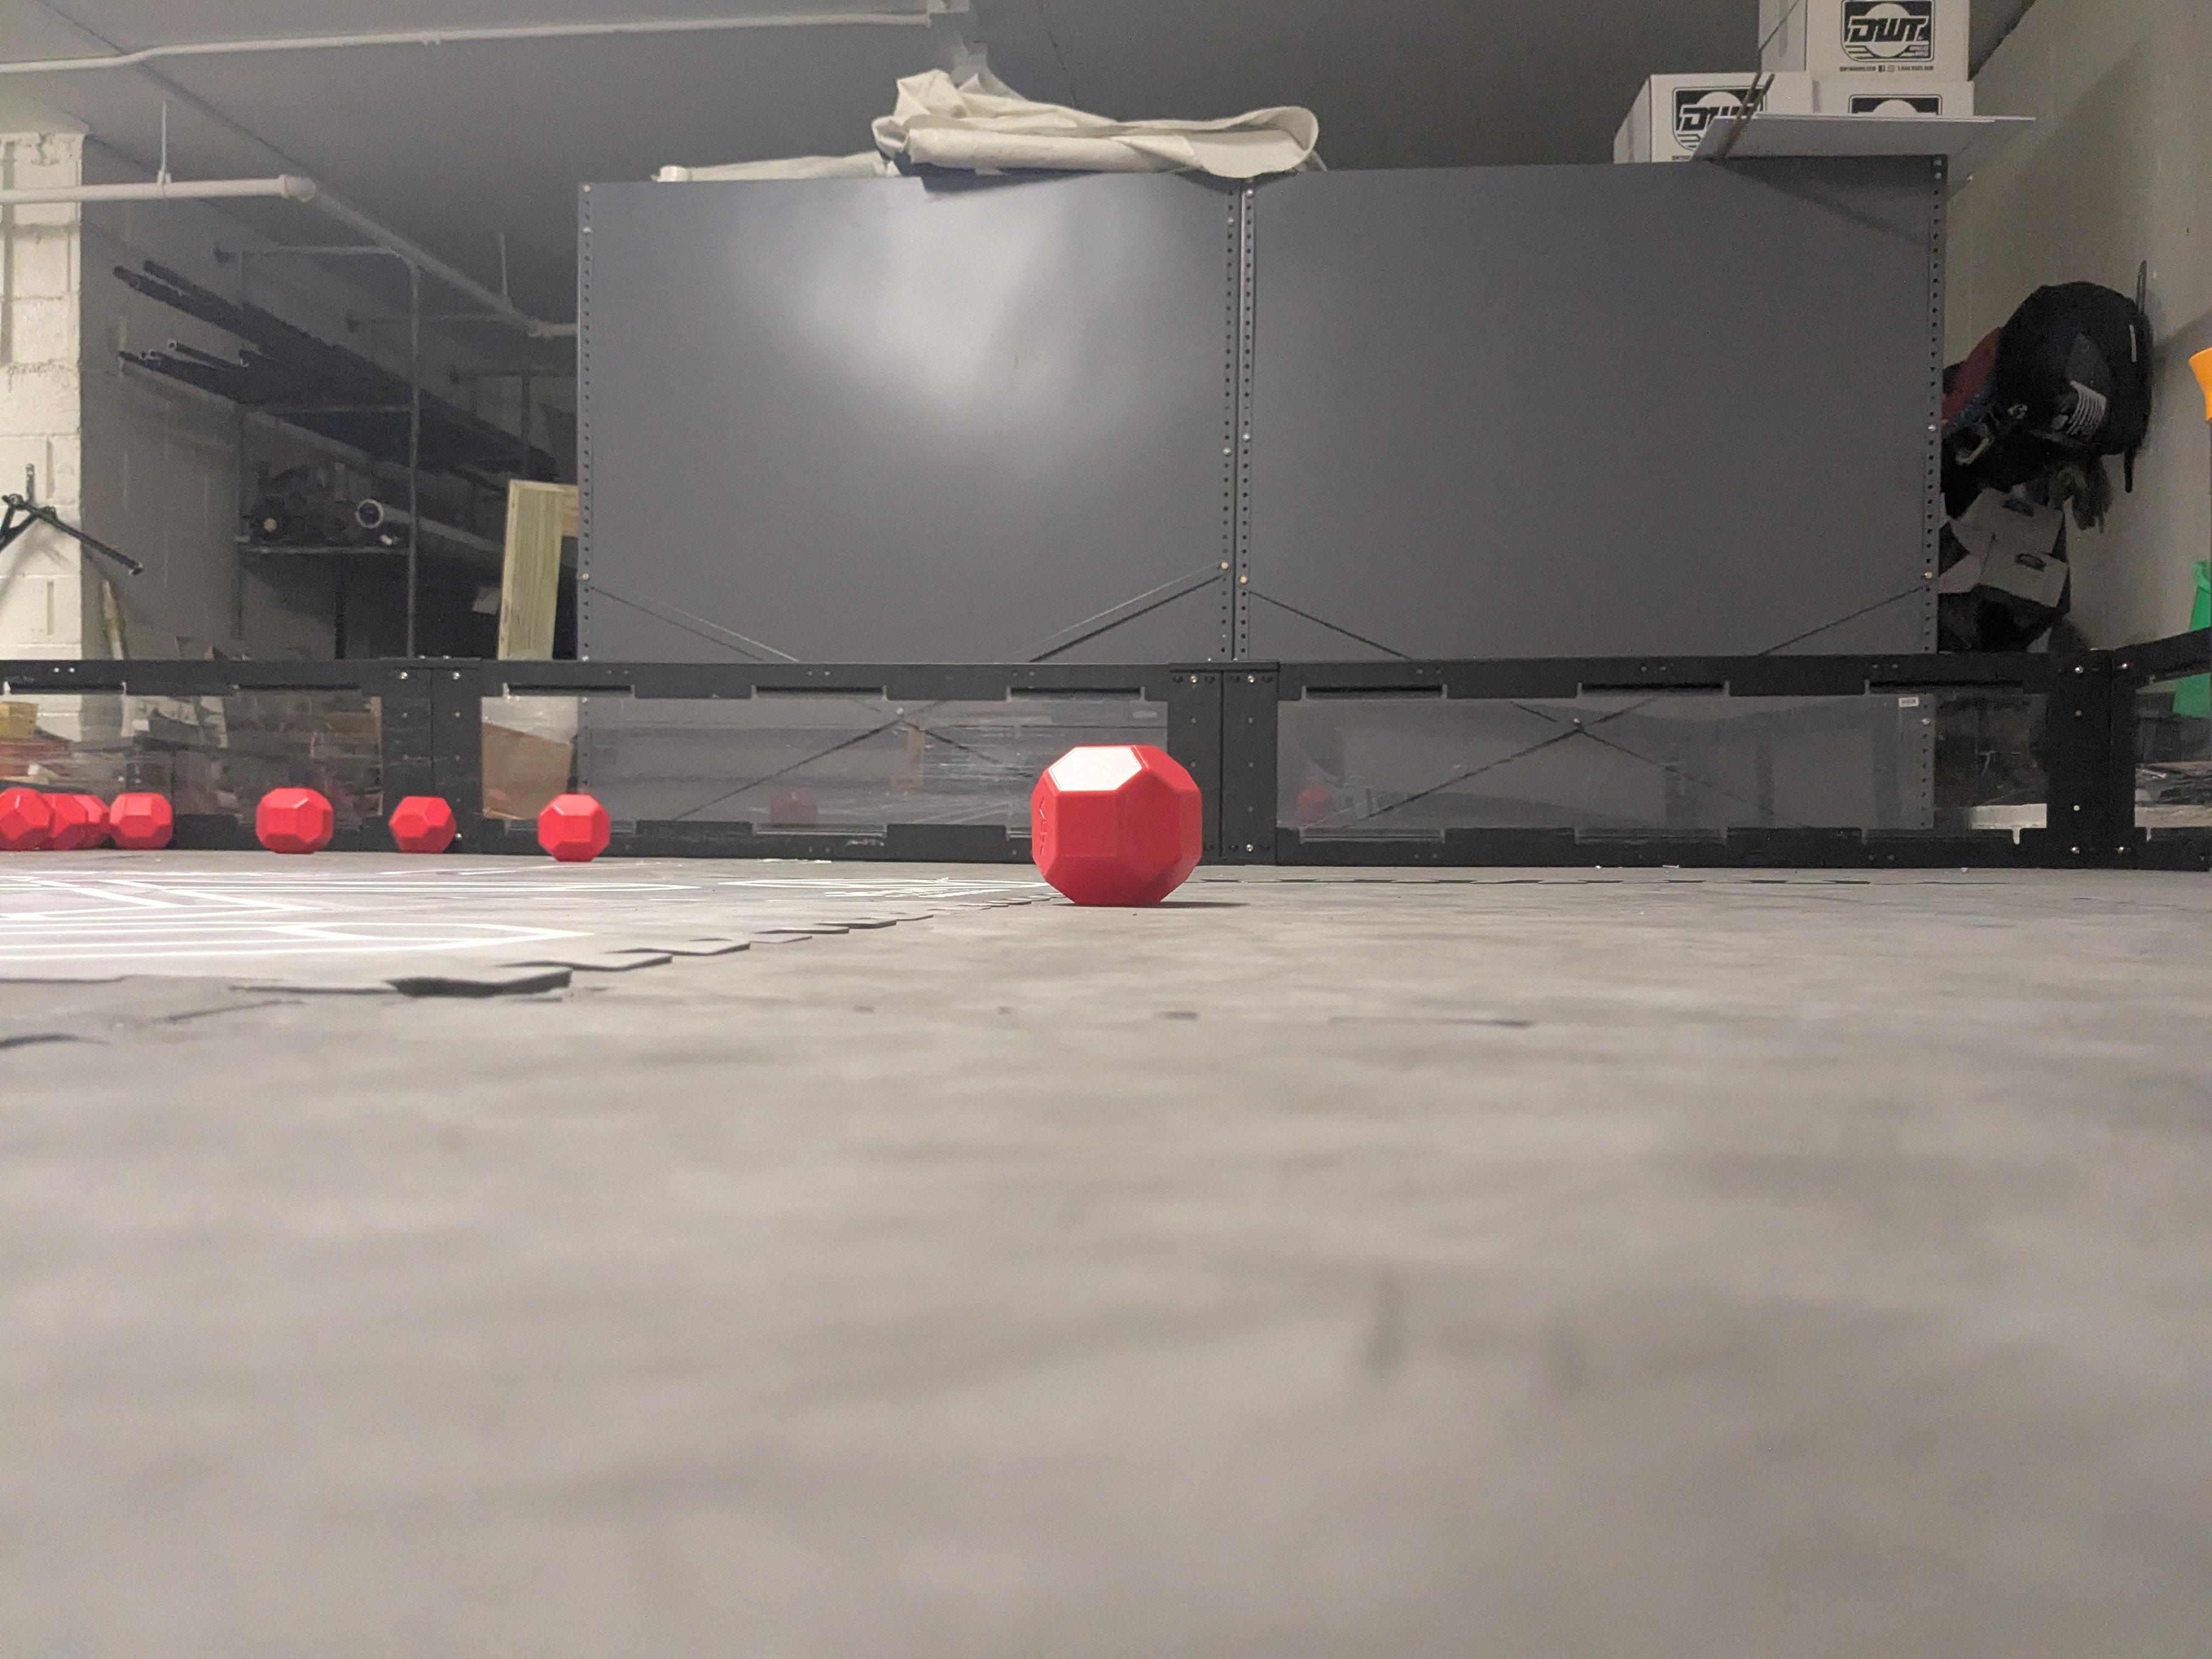Vex-Pieces-RED: (1029, 746, 1202, 904), (254, 788, 334, 852), (536, 793, 610, 863), (108, 791, 174, 849), (44, 793, 108, 850), (390, 796, 456, 852), (0, 788, 54, 850)
